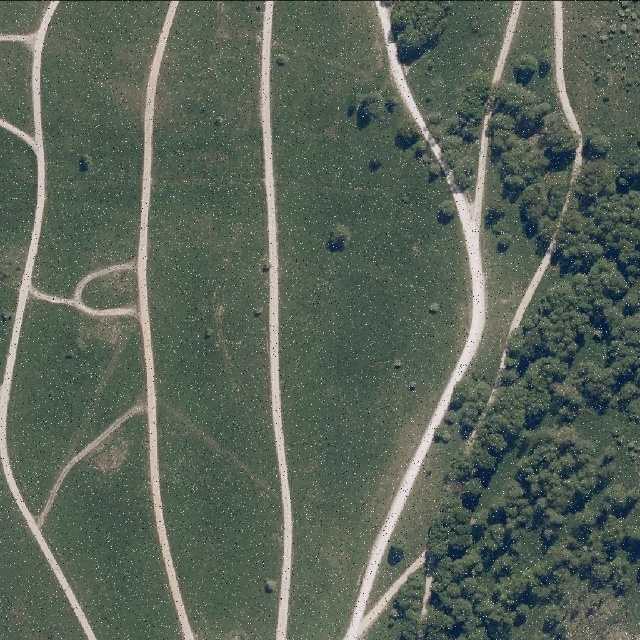vegetation: (421, 130, 640, 640), (489, 50, 579, 252), (425, 78, 490, 191), (434, 369, 489, 442), (388, 0, 449, 65), (396, 120, 443, 177), (388, 568, 423, 640), (349, 93, 396, 121), (328, 225, 349, 252), (438, 200, 454, 220)
